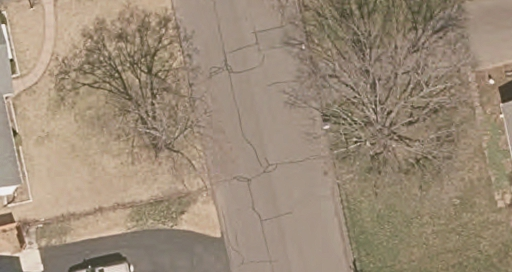DT: (322, 119, 360, 153)
